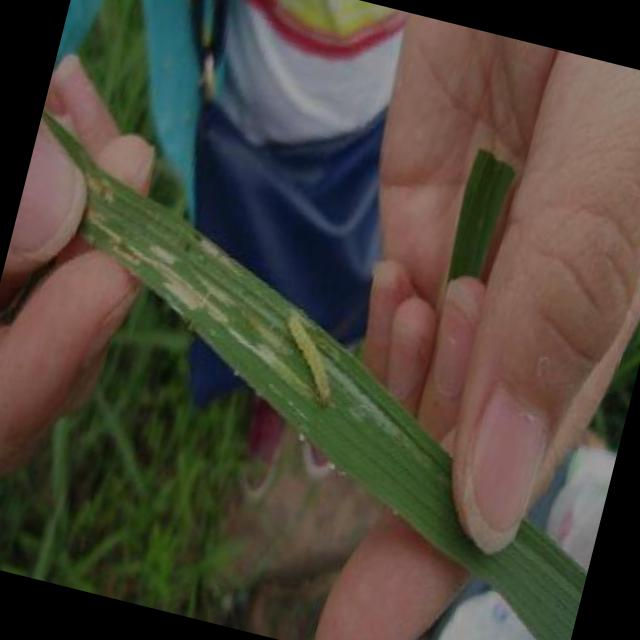leaf-folder: (247, 284, 370, 446)
